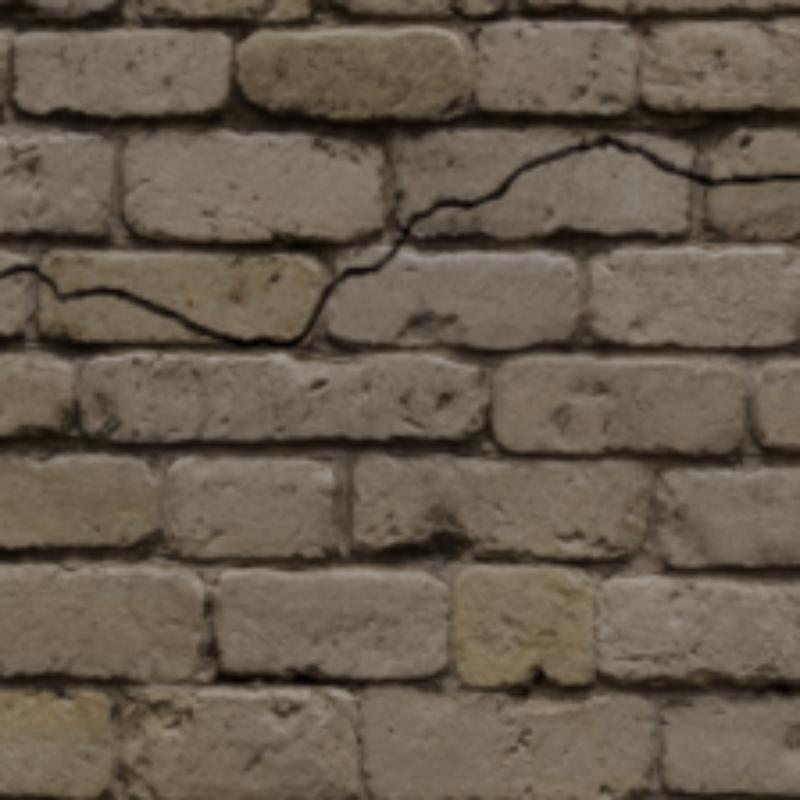pothole: (0, 136, 796, 346)
